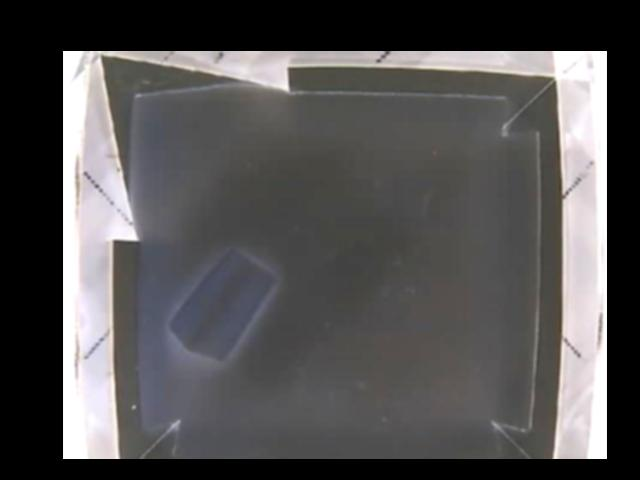Mooli: (165, 246, 275, 361)
